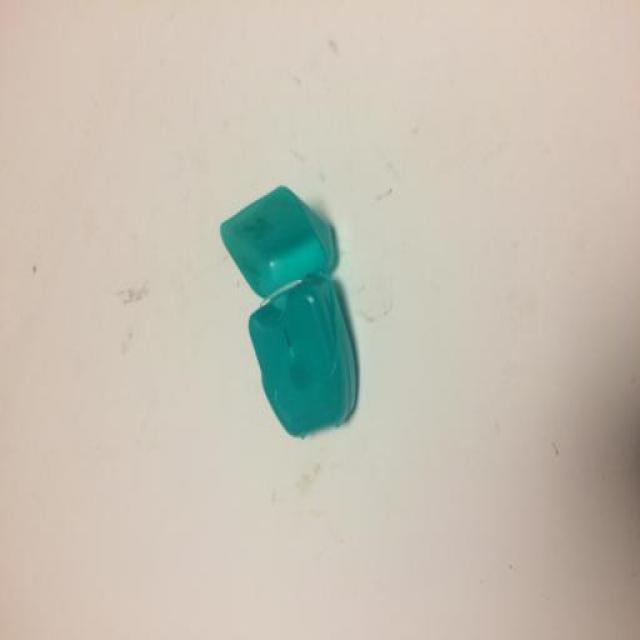plastic: (209, 169, 393, 479)
